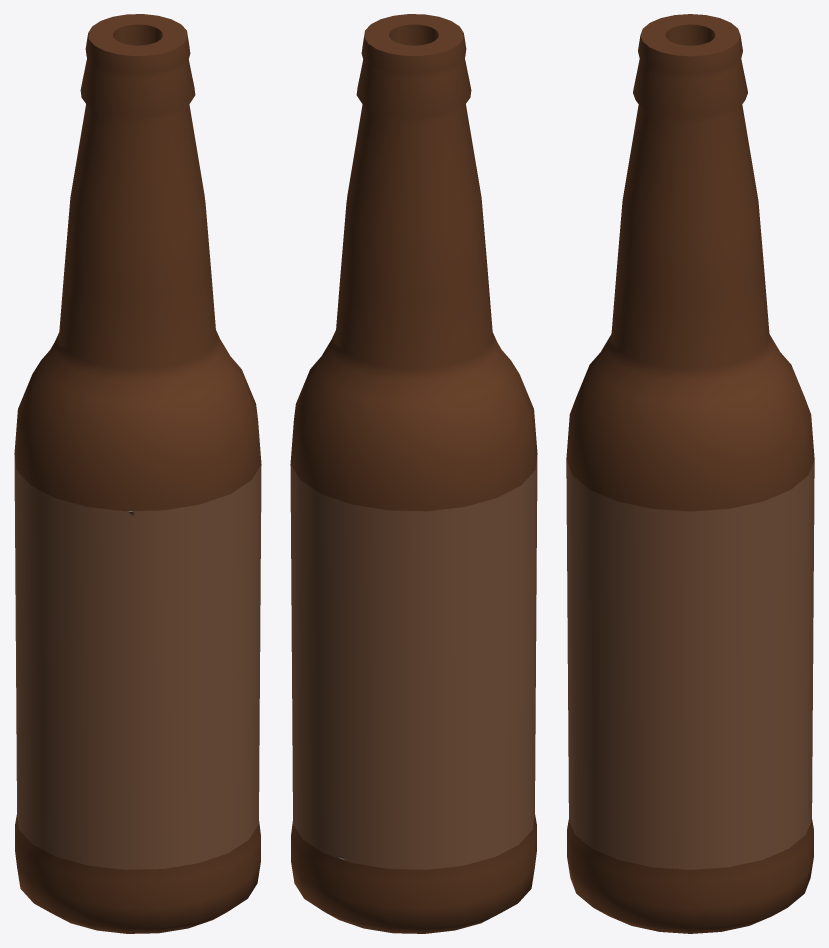
The model's file is Bottle.obj.
3 views of the same model, side by side, from view 1: azimuth 30°, elevation 25°; view 2: azimuth 150°, elevation 25°; view 3: azimuth 270°, elevation 25° (orthographic).
Visible parts, largest first — view 1: pCylinder1; view 2: pCylinder1; view 3: pCylinder1.
Boxes of the visible parts, left/top/right/bottom form: pCylinder1: left=14, top=14, right=261, bottom=933; pCylinder1: left=290, top=14, right=537, bottom=933; pCylinder1: left=566, top=14, right=814, bottom=933.
Bounding box in the file's own units: 5.79 × 22.04 × 5.79.
